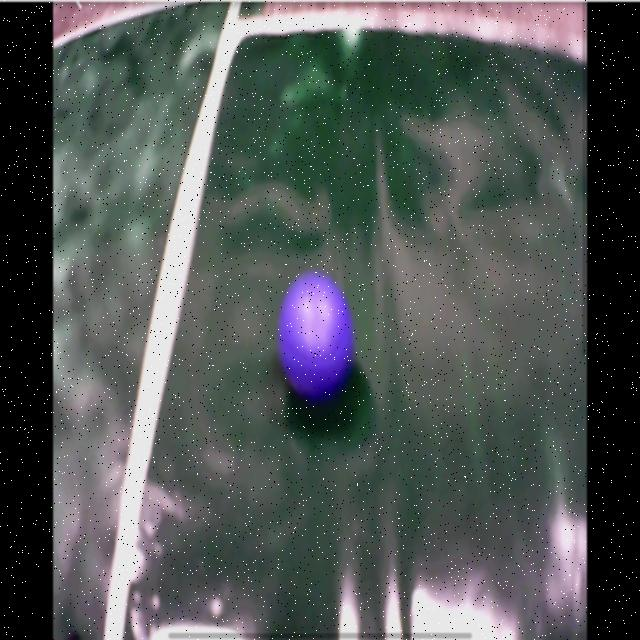ball: (278, 274, 352, 397)
